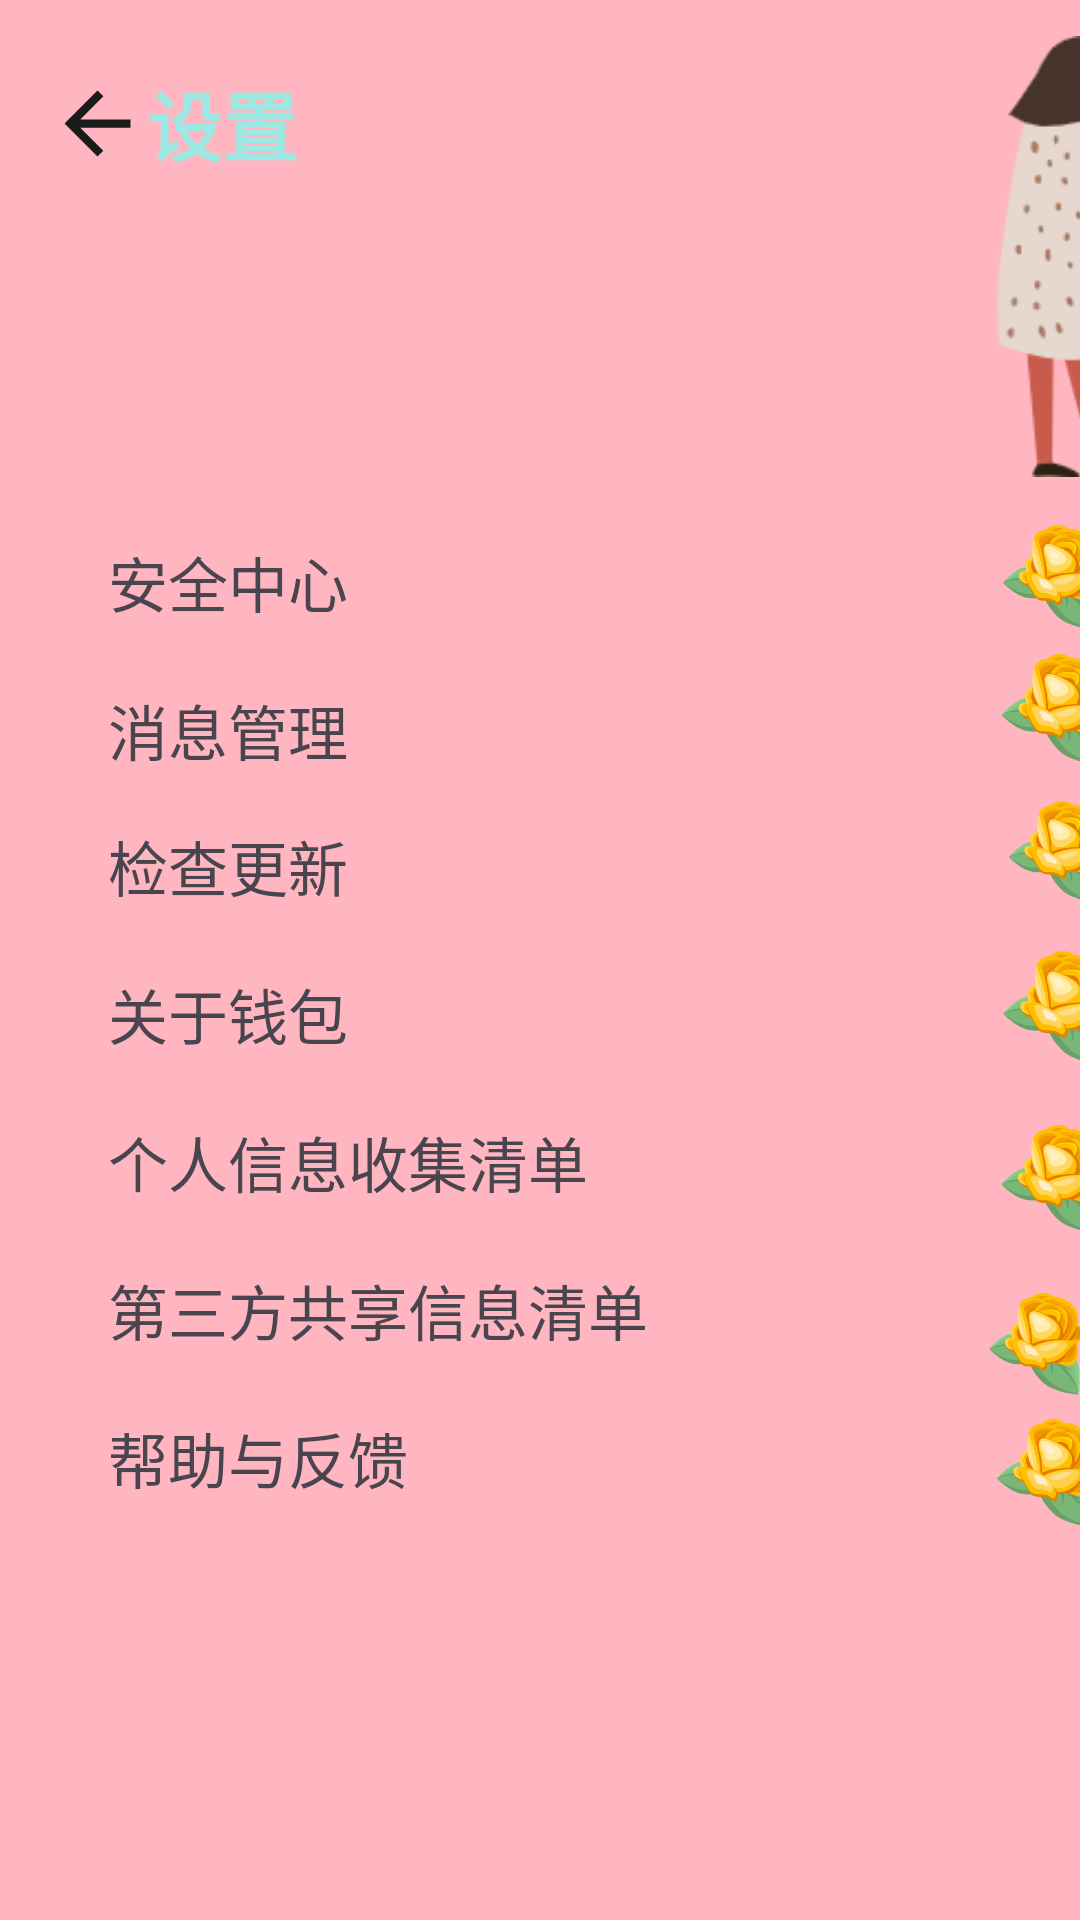

Icons on this 1080x1920 Android screen, each with its box as [x1=x1, y1=y1, x2=x2, y2=y2]:
arrow back: [x1=64, y1=90, x2=131, y2=157]
